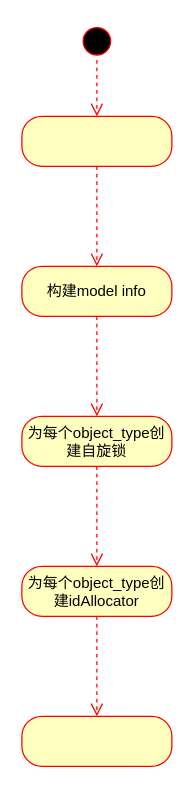
Some shapes in this 194 by 788 pixel diagram are drawn without their labels. The shapes that lost their labels are listed below. From the top down, each one's box as (x1, y1, x2, y2) in pixels, then its label:
(21, 115, 172, 166): Activity
(21, 715, 172, 766): 为每个object_type创建defaults_cache
